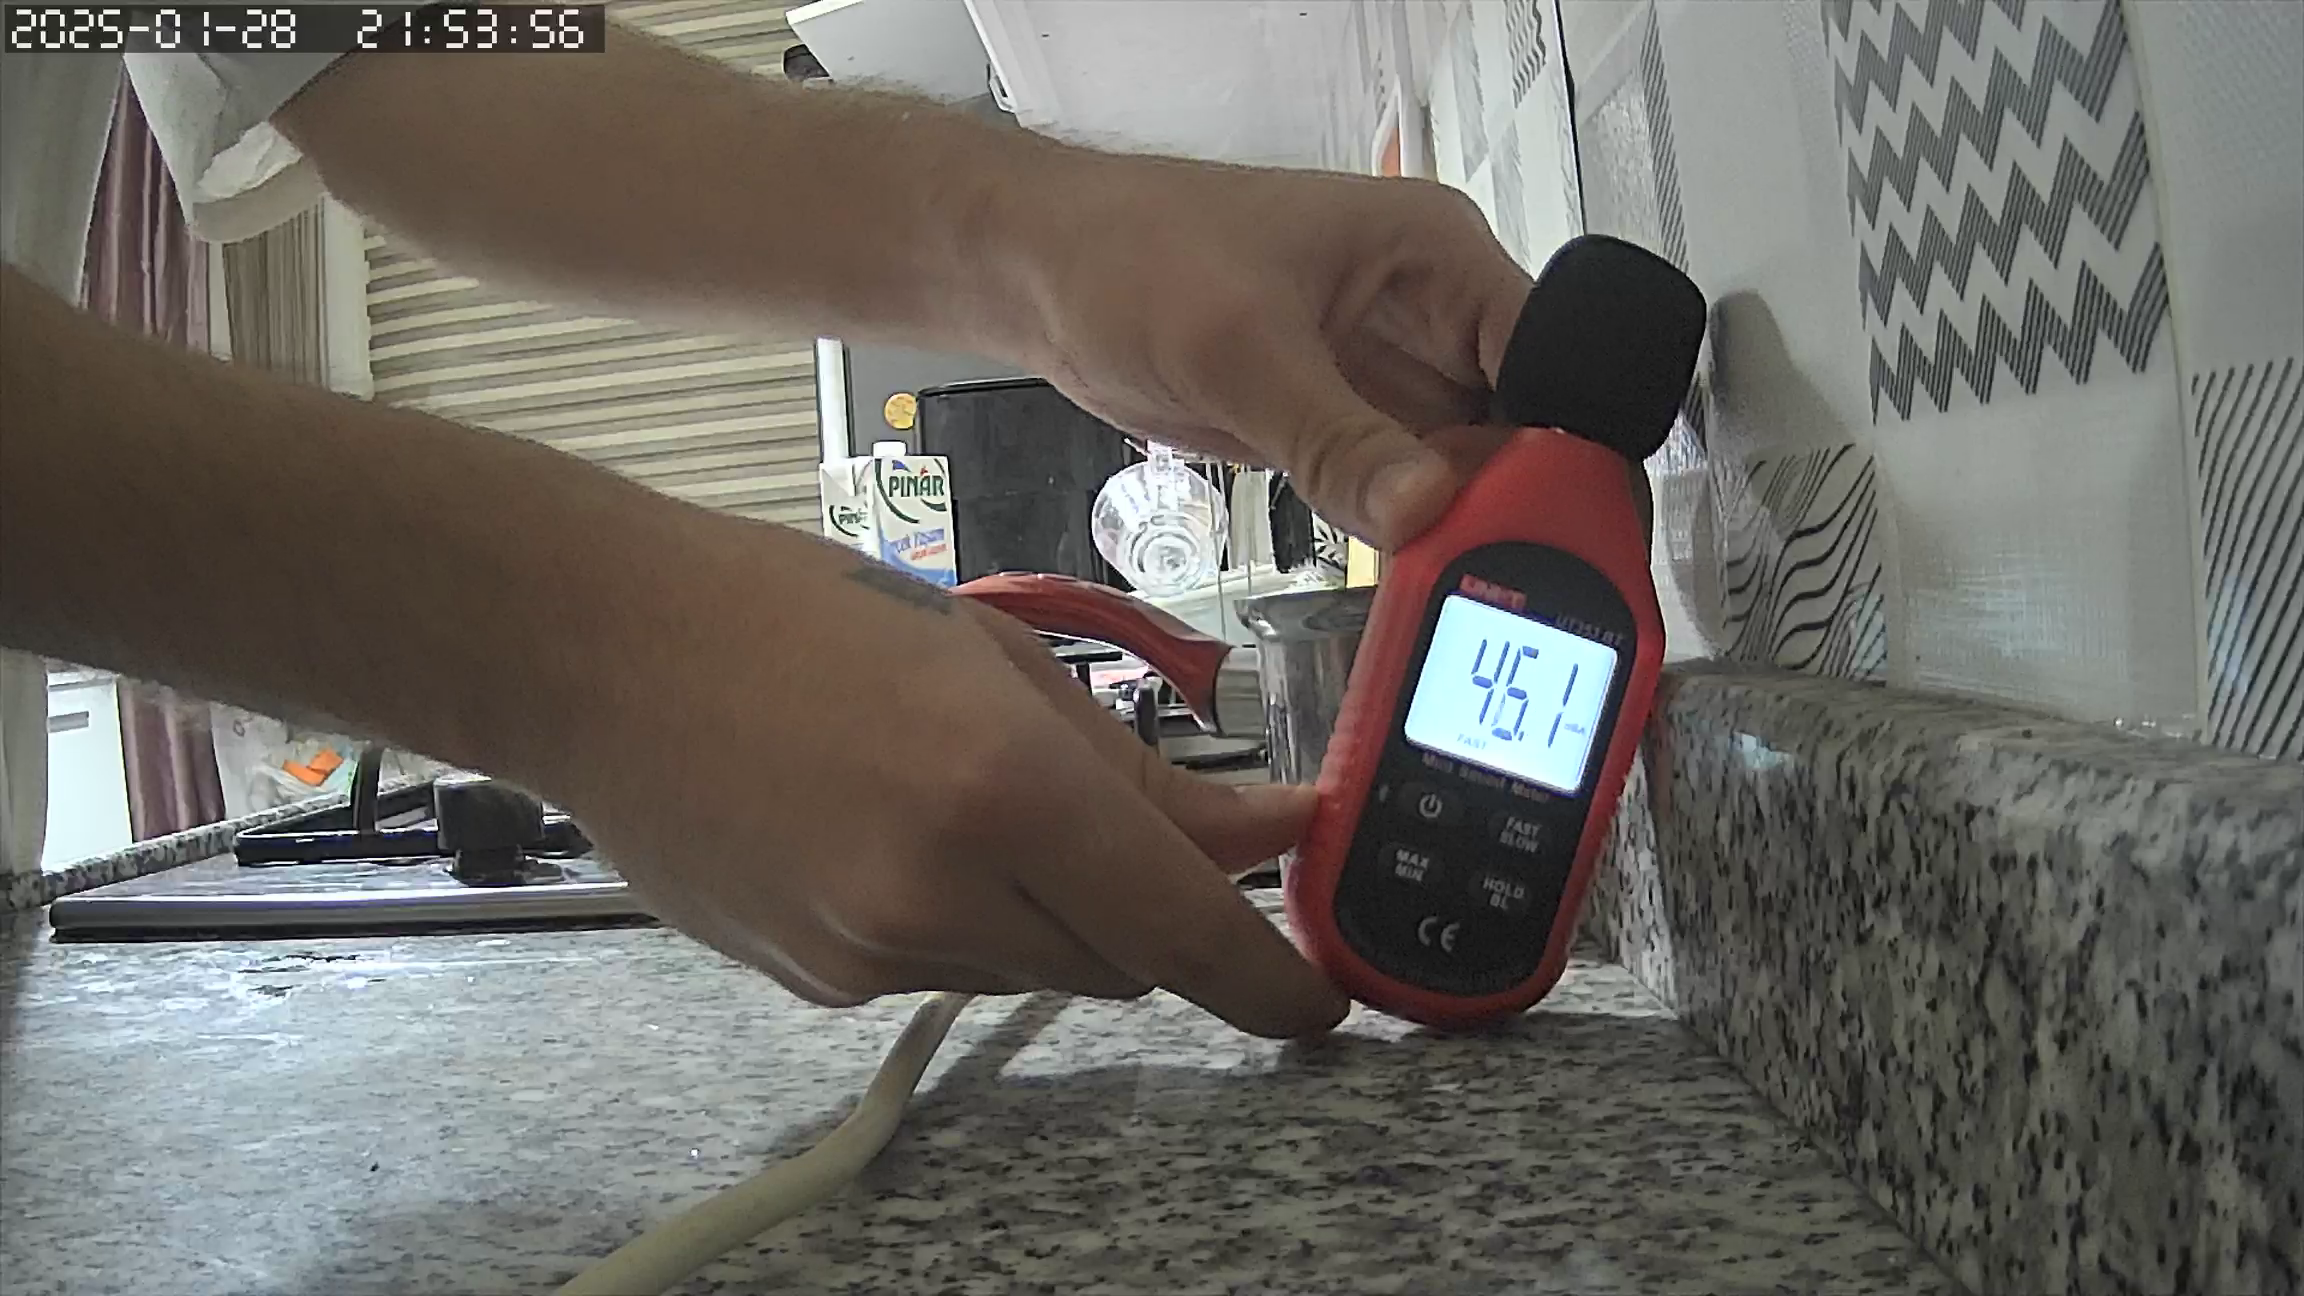screen: (1399, 593, 1616, 790)
